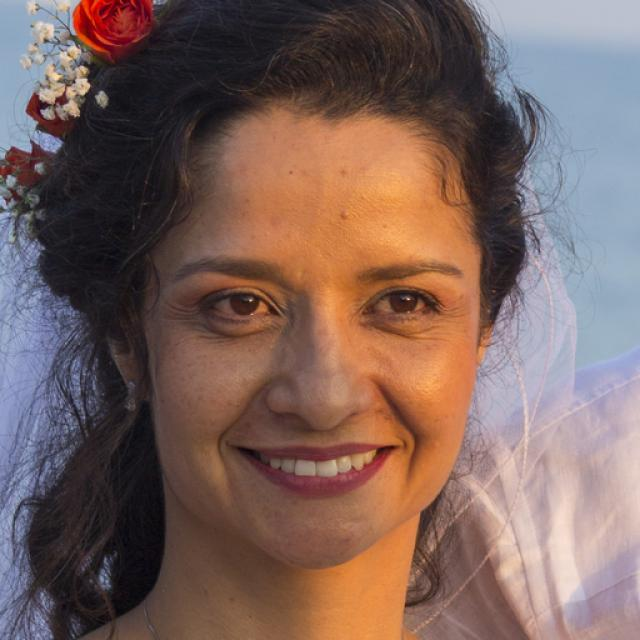happy: (148, 108, 480, 568)
